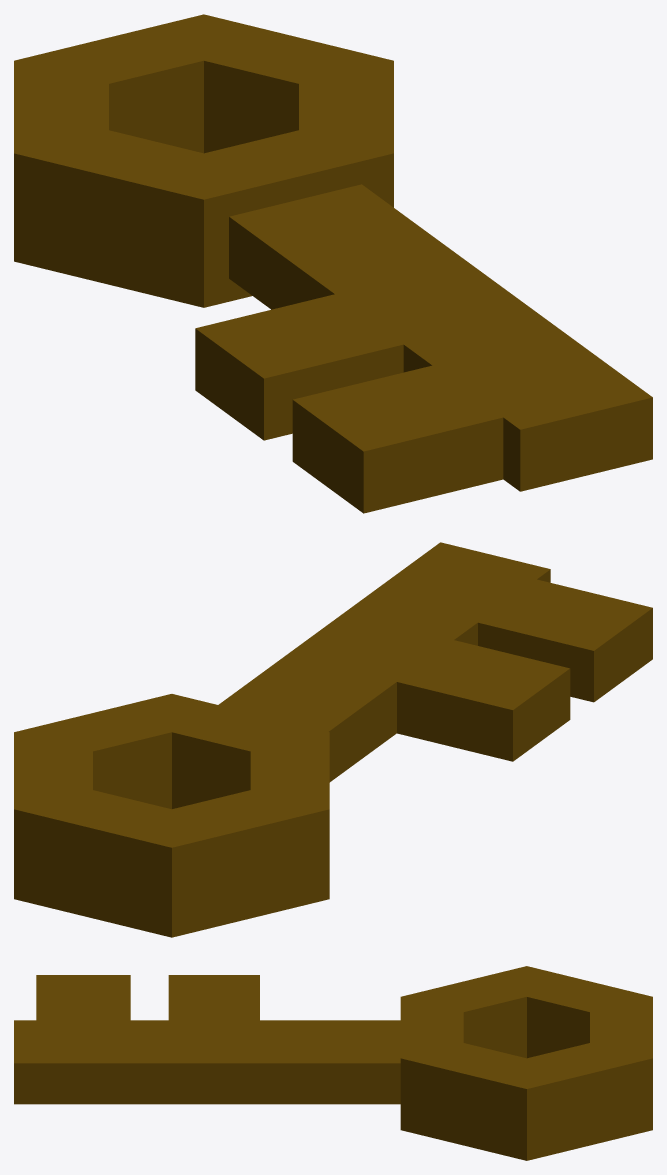
The model's file is Key.fbx.
The picture shows the model from 3 angles, top to bottom: view 1: azimuth 30°, elevation 25°; view 2: azimuth 150°, elevation 25°; view 3: azimuth 270°, elevation 25°; orthographic projection. The views are drawn at different scales.
Visible parts, largest first — view 1: Key; view 2: Key; view 3: Key.
Part boxes in pixels (left/top/right/bottom): Key: left=14, top=14, right=652, bottom=513; Key: left=14, top=542, right=652, bottom=937; Key: left=14, top=966, right=652, bottom=1160.
Size of the model in its own units: 16.17 by 4.18 by 33.73.
